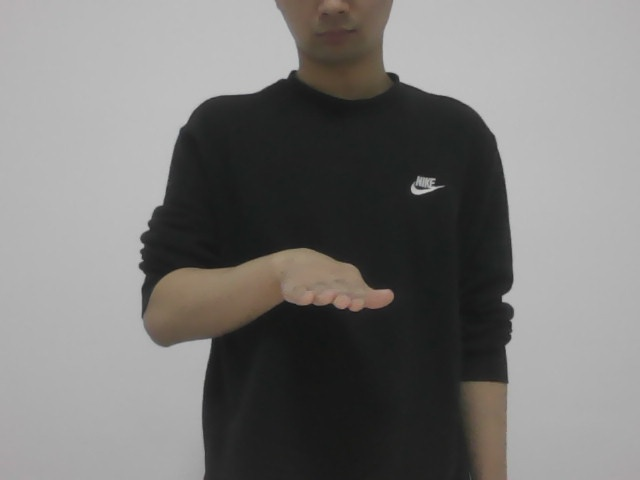slow: (250, 237, 400, 327)
